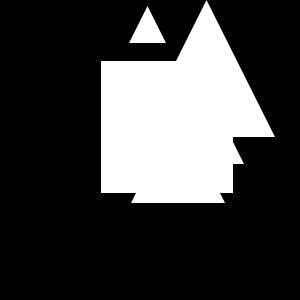circle: (101, 61, 233, 193)
triangle: (138, 0, 275, 137), (131, 109, 225, 203), (157, 77, 244, 164), (129, 6, 166, 43)
